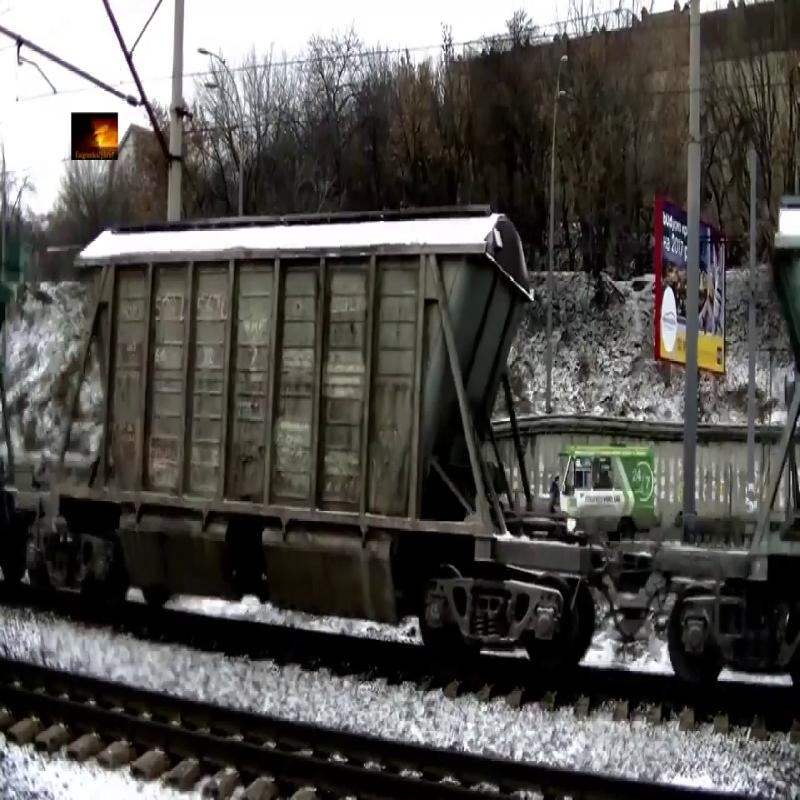train: (50, 202, 543, 616)
